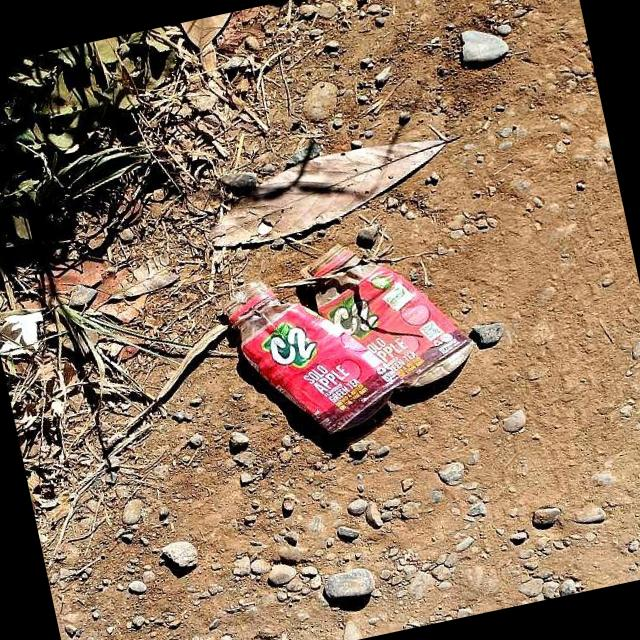Non-biodegradable: (191, 244, 424, 466), (279, 209, 495, 418)
